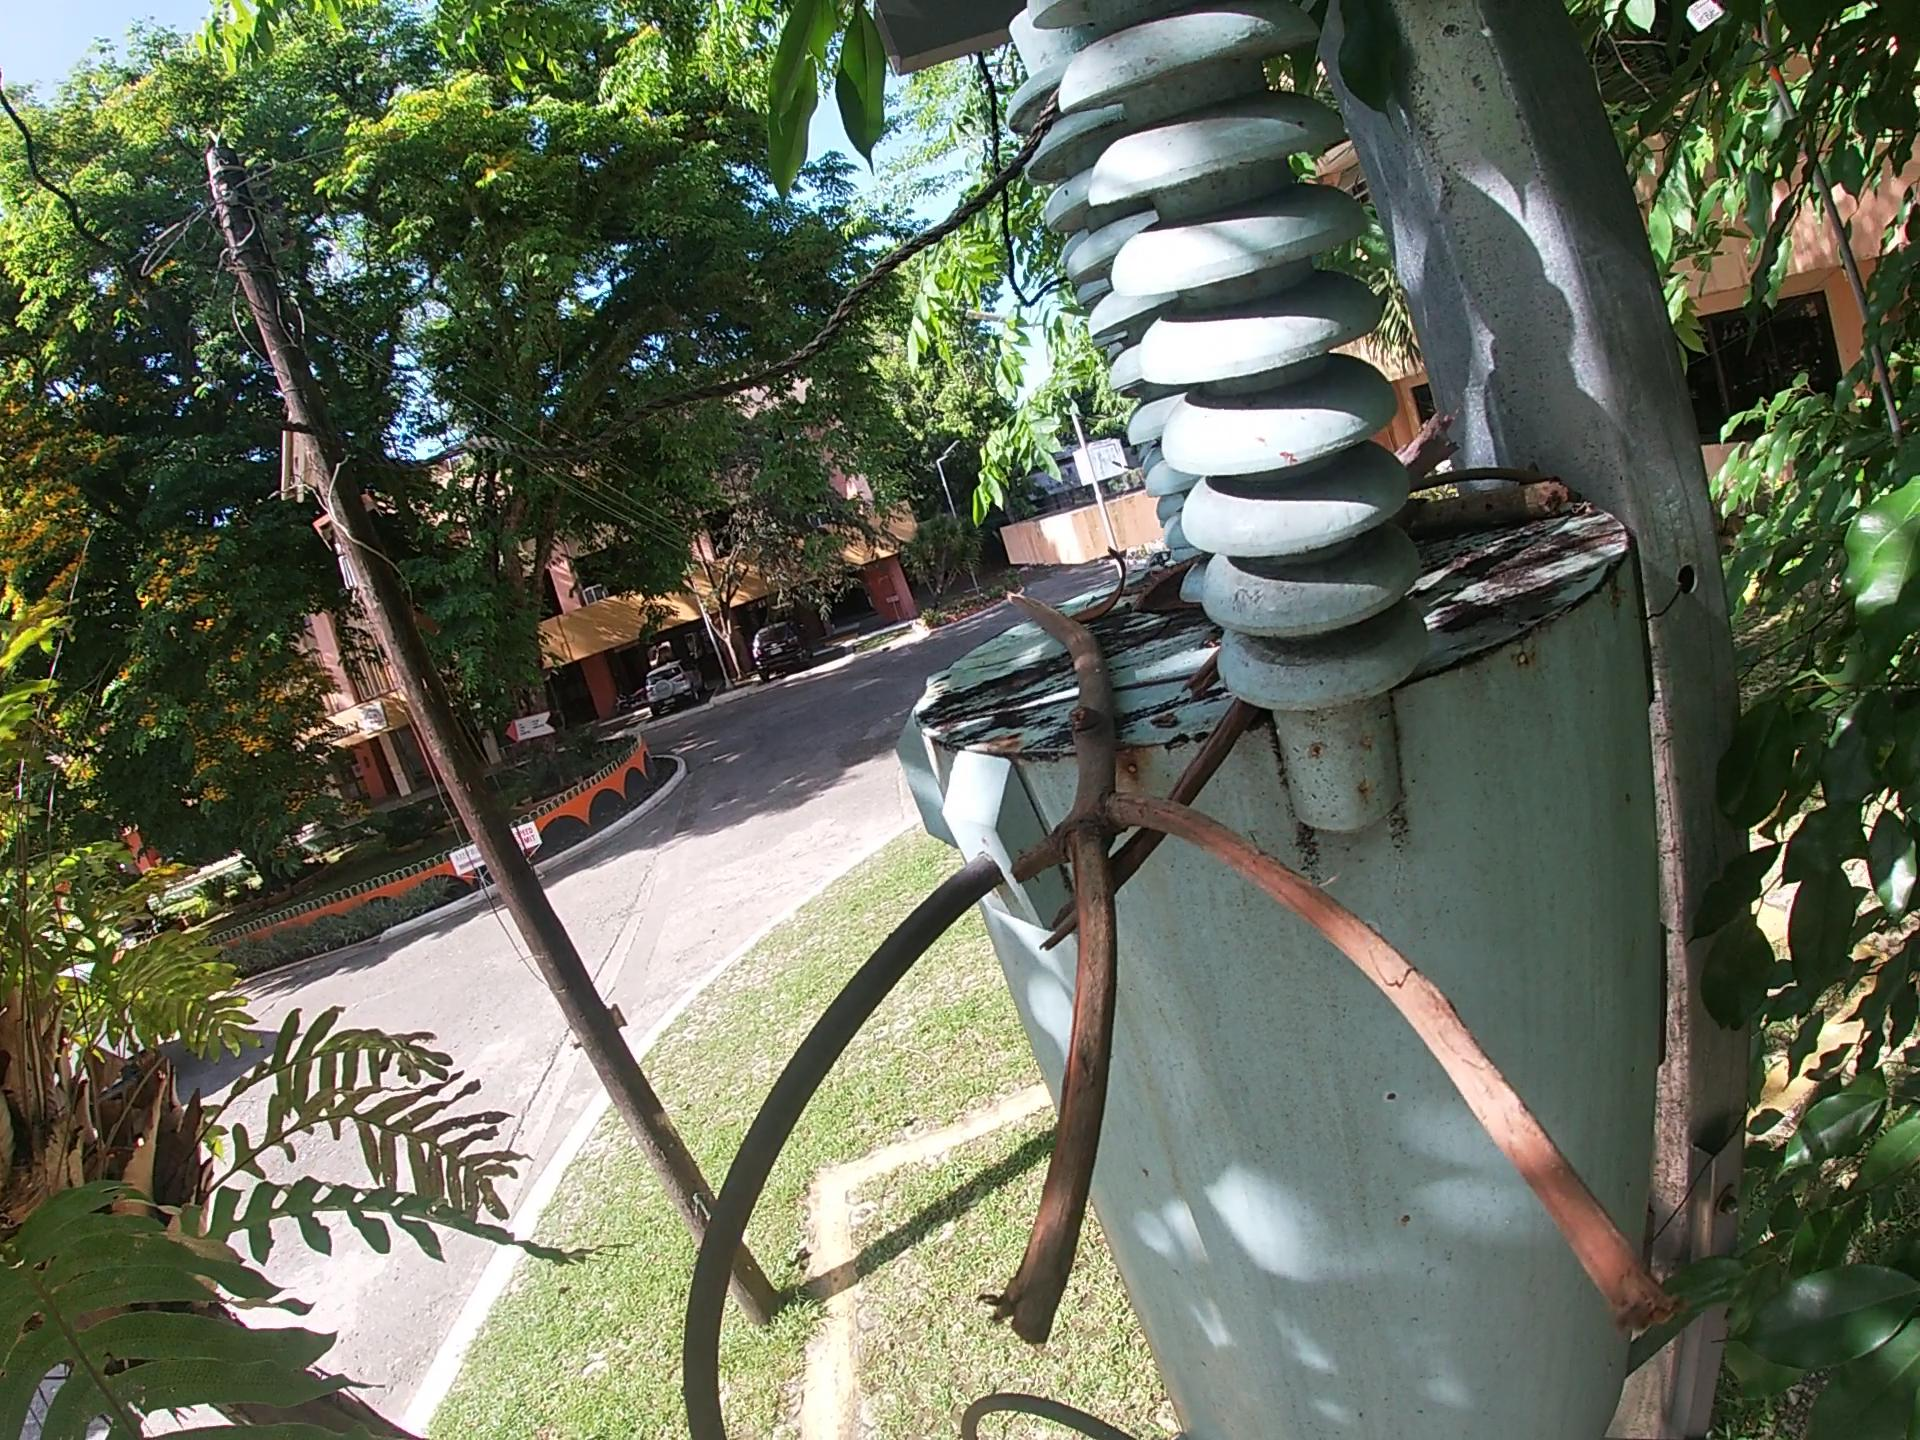mahogany fruit: (1126, 551, 1226, 622), (1078, 538, 1132, 632)
tree branch: (993, 584, 1692, 1352), (1031, 655, 1284, 951), (1388, 476, 1578, 548)
